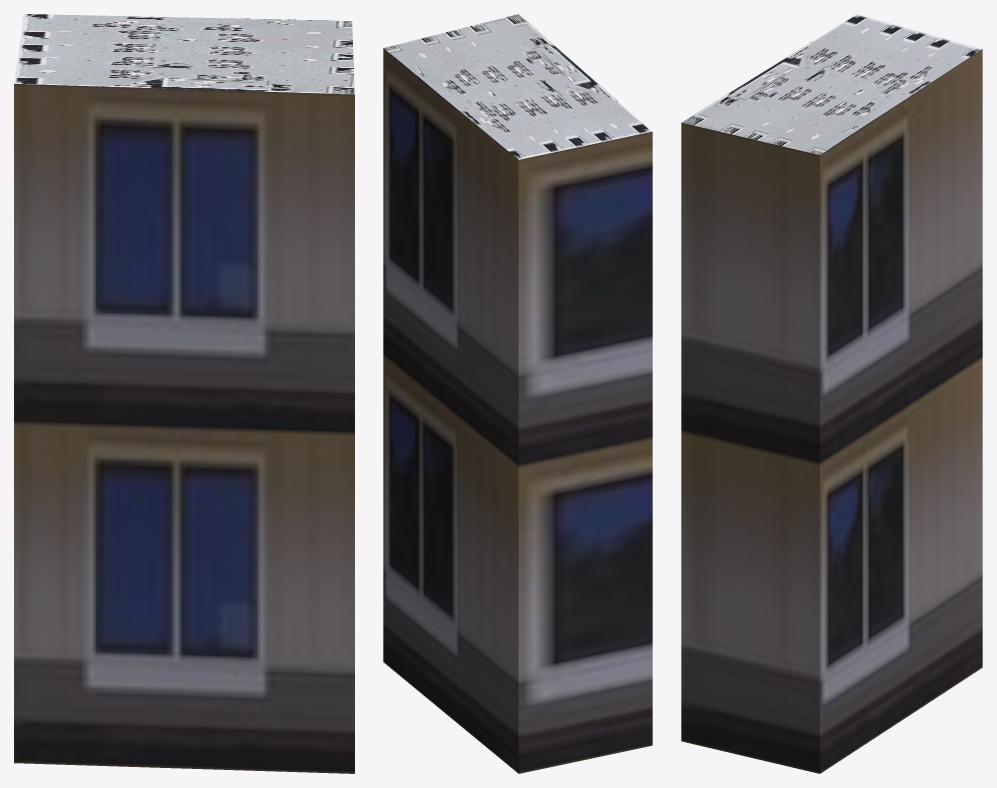
The model's file is ResTex__4797.fbx.
The picture shows the model from 3 angles, left to right: view 1: azimuth 30°, elevation 25°; view 2: azimuth 150°, elevation 25°; view 3: azimuth 270°, elevation 25°; orthographic projection. The views are drawn at different scales.
Parts seen in each view (by area): view 1: CityEngineMaterial_5_m, CityEngineMaterial_2_m; view 2: CityEngineMaterial_5_m, CityEngineMaterial_2_m; view 3: CityEngineMaterial_5_m, CityEngineMaterial_2_m.
Part boxes in pixels (x1,y1,x2,y2): CityEngineMaterial_5_m: (14,83,354,773); CityEngineMaterial_2_m: (14,14,354,94); CityEngineMaterial_5_m: (383,48,652,773); CityEngineMaterial_2_m: (384,14,651,159); CityEngineMaterial_5_m: (681,49,982,773); CityEngineMaterial_2_m: (682,14,981,154).
Size of the model in its own units: 2.94 by 6 by 2.65.
2 materials, 2 textured.
